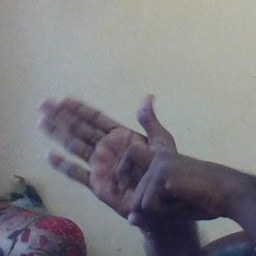R: (35, 79, 189, 217)
